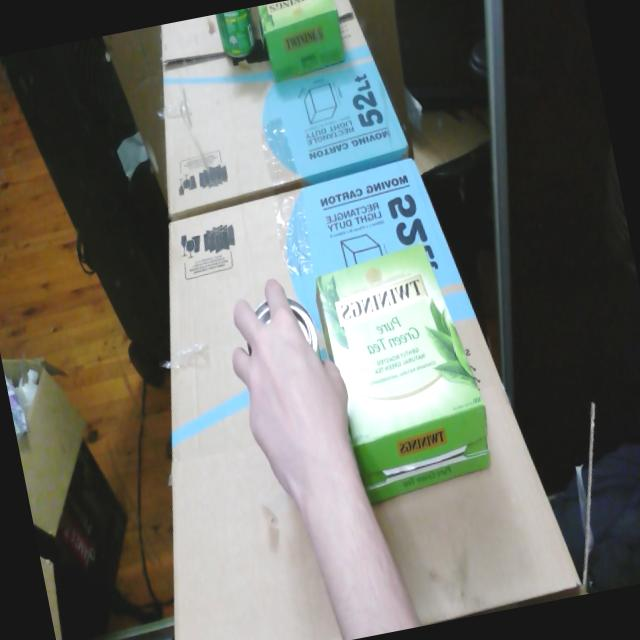nestle_milo_tin: (287, 298, 322, 360), (255, 300, 271, 324), (248, 342, 252, 355)
twinings_greentea_box: (315, 244, 491, 505)
